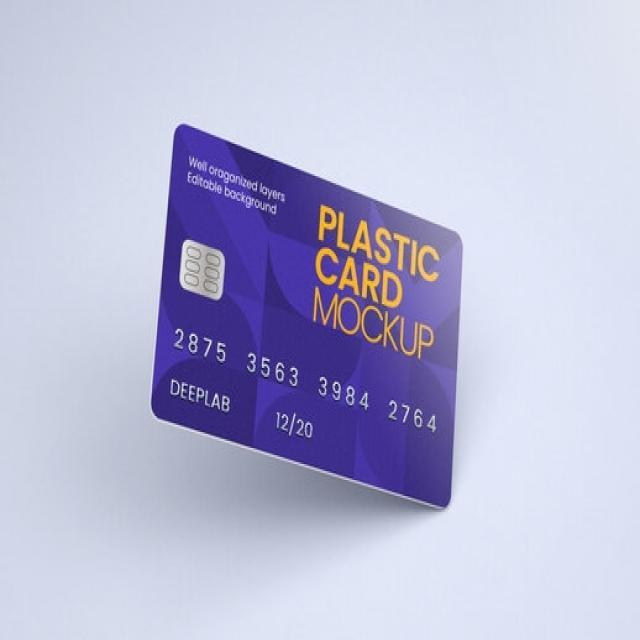payment_card: (148, 121, 464, 510)
